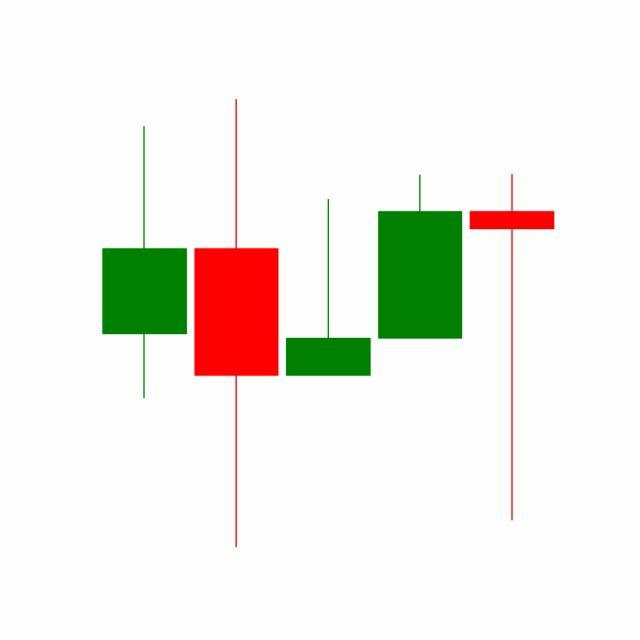Spinning Top: (466, 171, 559, 525)
